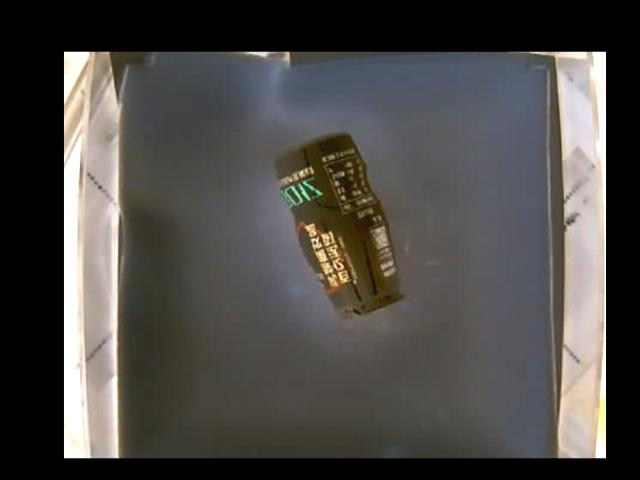Bottle: (274, 128, 406, 321)
